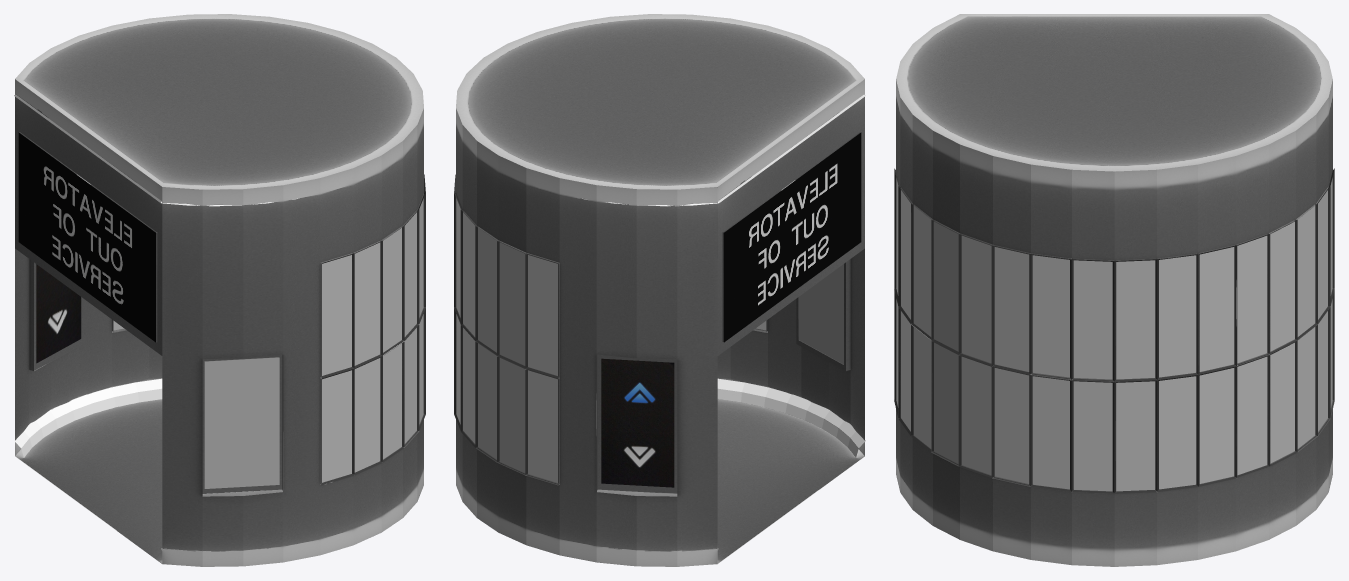
Rendered from Ascensore.fbx.
3 views of the same model, side by side, from view 1: azimuth 30°, elevation 25°; view 2: azimuth 150°, elevation 25°; view 3: azimuth 270°, elevation 25° (orthographic). The views are drawn at different scales.
Parts seen in each view (by area): view 1: Elevator, Vetri, Up, Left, Right; view 2: Elevator, Vetri, Up, Right, Left; view 3: Elevator, Vetri.
Part boxes in pixels (<box>): Elevator: <box>14,14,425,566</box>; Vetri: <box>113,198,423,482</box>; Up: <box>18,132,155,342</box>; Left: <box>204,357,279,488</box>; Right: <box>36,264,80,363</box>; Elevator: <box>454,14,865,566</box>; Vetri: <box>456,198,766,482</box>; Up: <box>724,132,861,342</box>; Right: <box>601,358,674,487</box>; Left: <box>798,264,843,364</box>; Elevator: <box>894,14,1334,566</box>; Vetri: <box>896,178,1332,491</box>.
Size of the model in its own units: 7.35 by 8.53 by 8.61.
